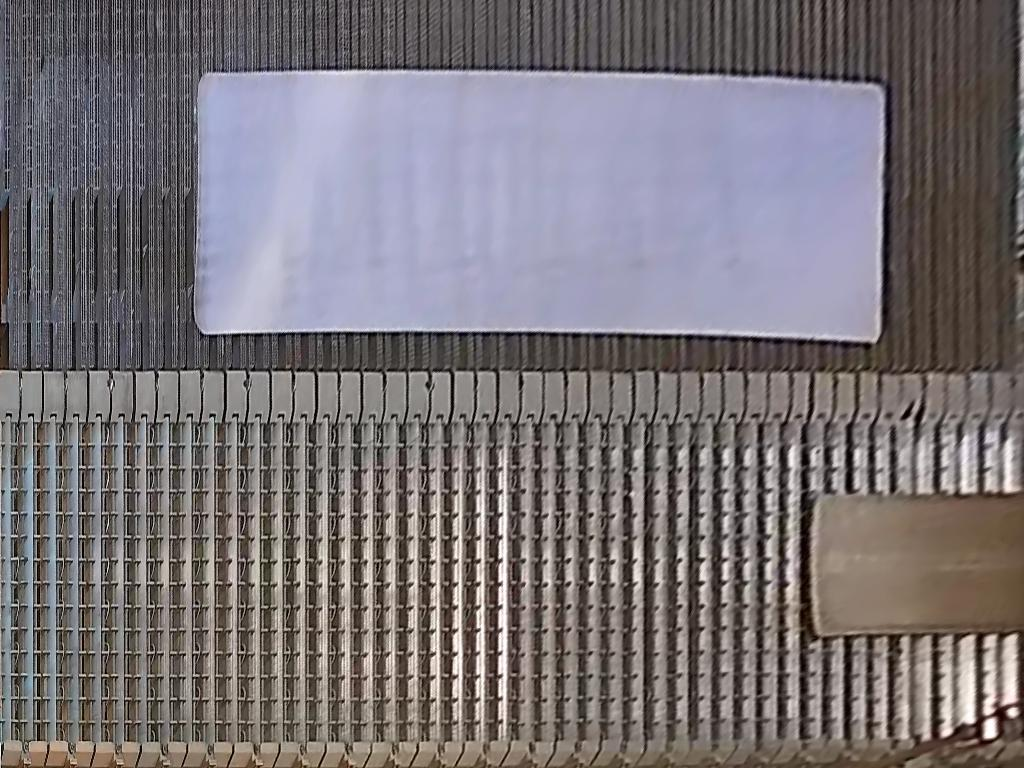steel: (195, 69, 886, 343), (808, 493, 1024, 639)
